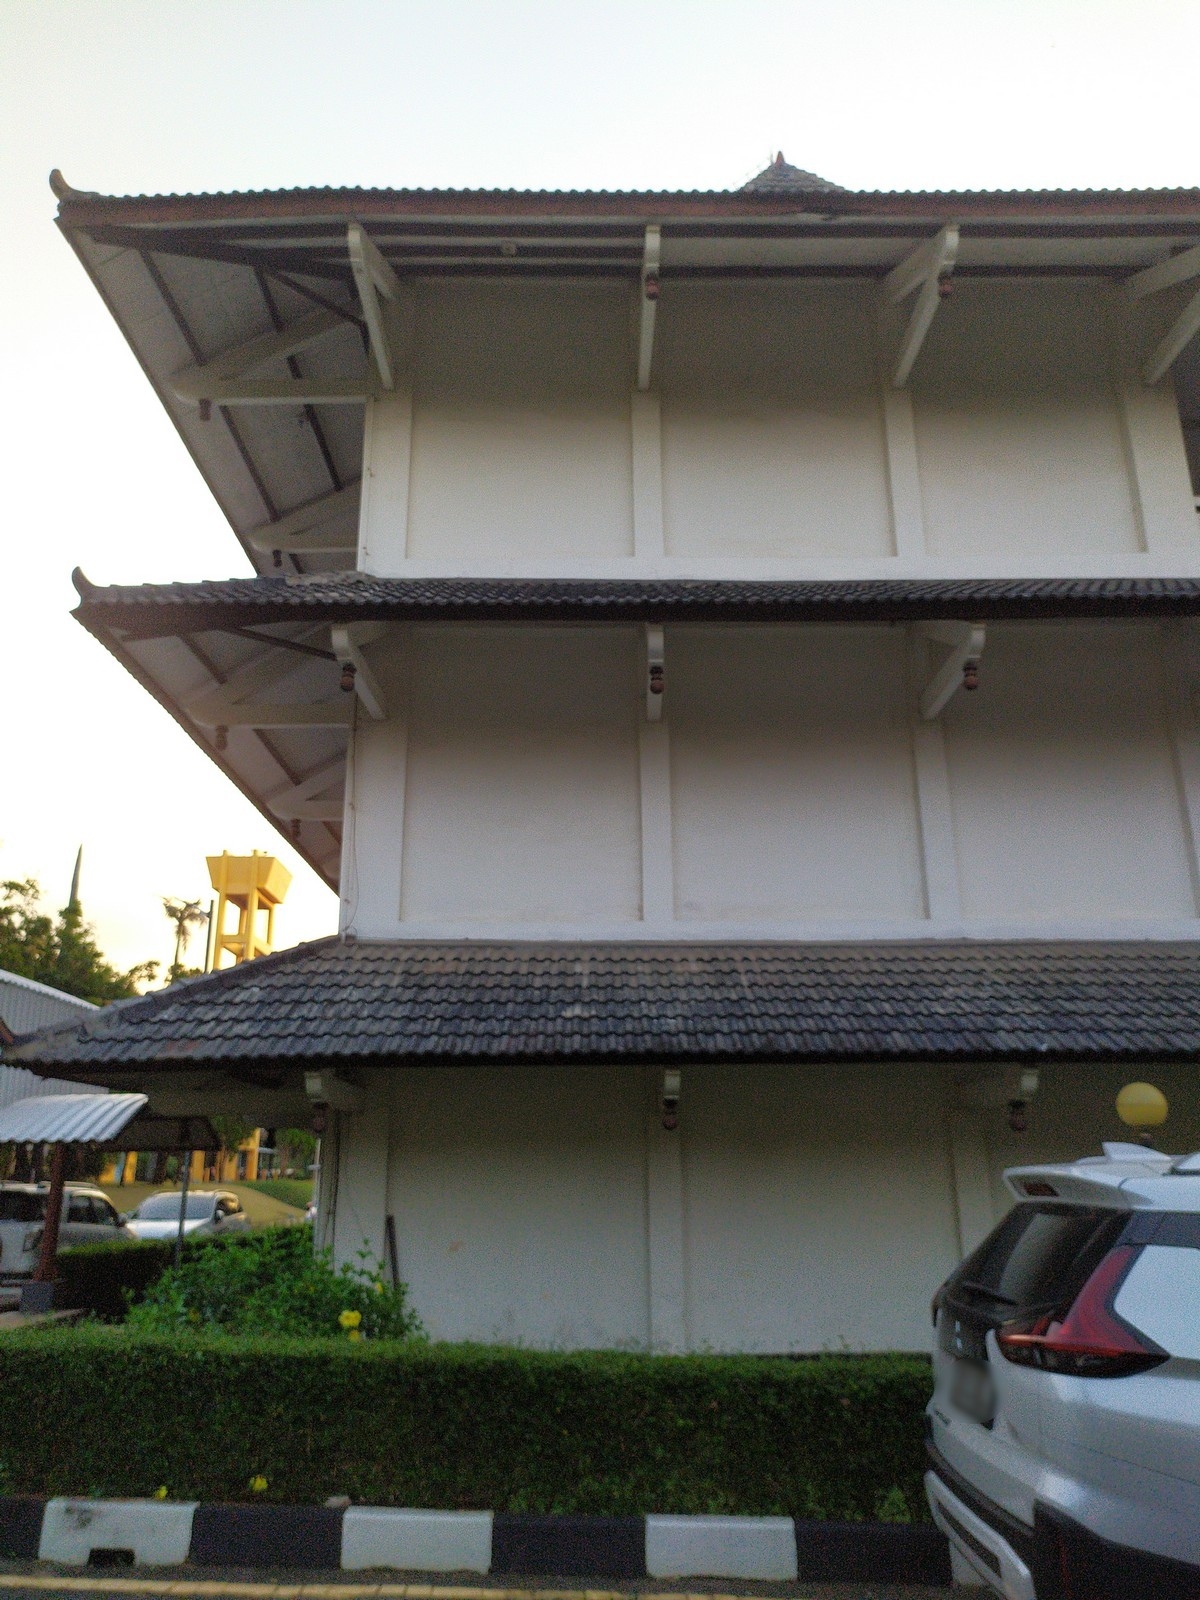concrete beam: (239, 370, 377, 409), (237, 695, 358, 734)
concrete column: (332, 666, 413, 927), (903, 661, 973, 917), (350, 320, 420, 567), (325, 1081, 398, 1311), (875, 317, 937, 553), (623, 312, 677, 559), (642, 1094, 695, 1346), (630, 684, 682, 934)
